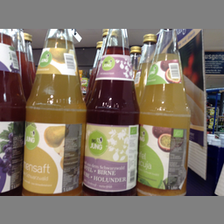juice: (23, 29, 86, 195), (85, 29, 140, 195), (138, 29, 191, 195)
